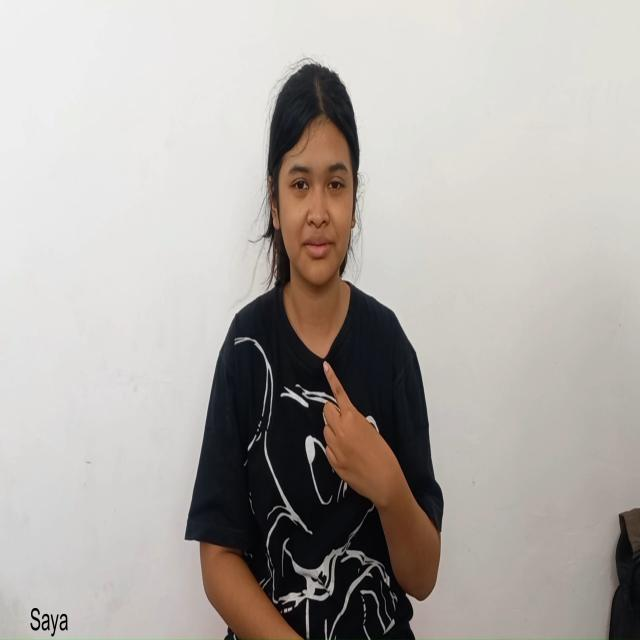Saya -BISINDO-: (319, 344, 445, 603)
